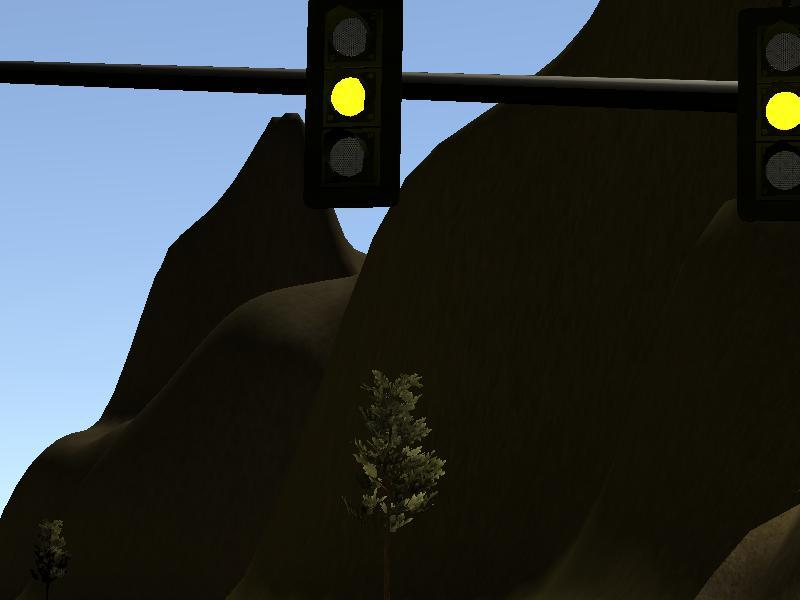Yellow: (306, 1, 403, 209), (737, 1, 799, 222)
